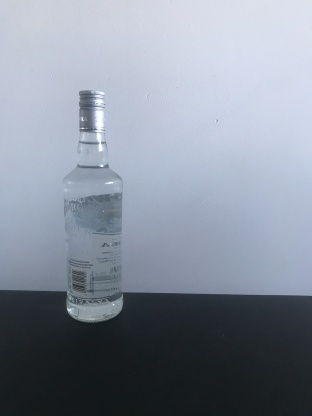nakretka: (77, 88, 107, 135)
